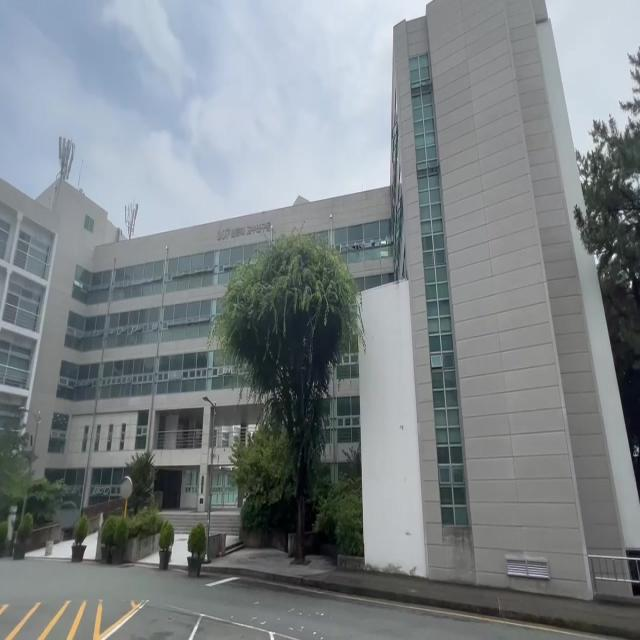building: (384, 10, 590, 567)
